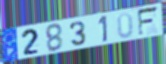0: (116, 11, 135, 39)
1: (97, 14, 109, 44)
2: (20, 27, 42, 57)
3: (69, 21, 88, 47)
8: (45, 23, 65, 54)
F: (136, 5, 160, 38)
